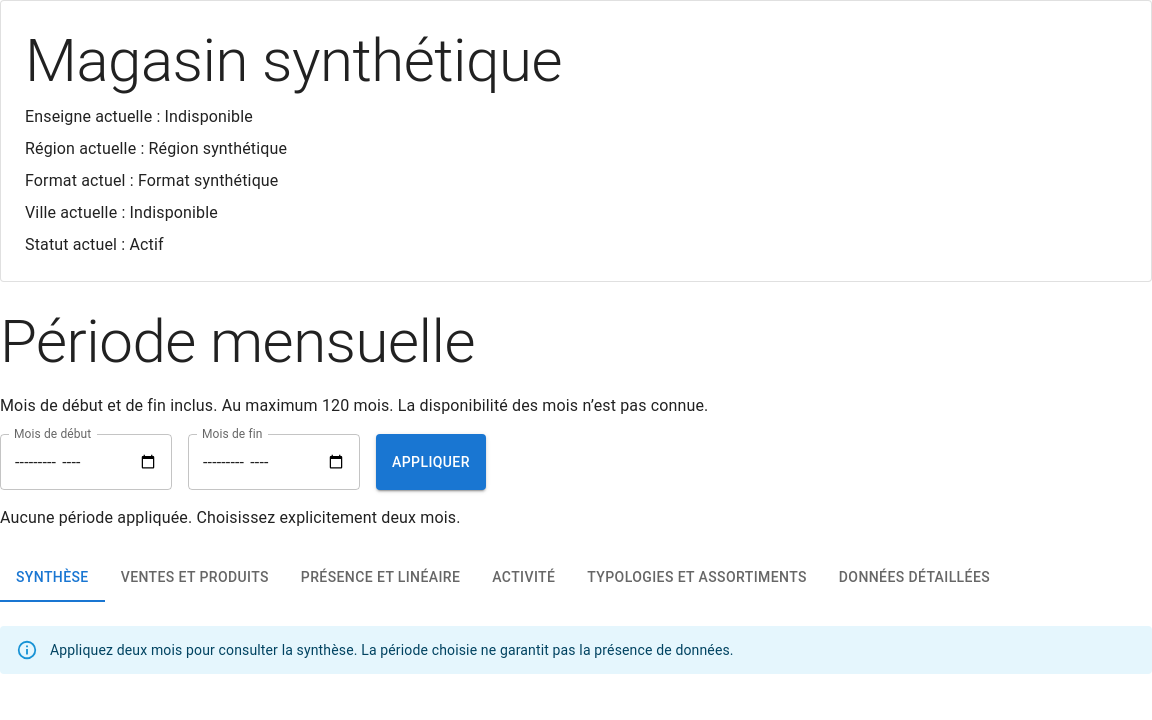
fails closed on forbidden reference responses and permits an explicit retry
The width and height of the screenshot is (1152, 720).
Click the tab "Données détaillées" at [914, 578], box [823,554,1006,602]
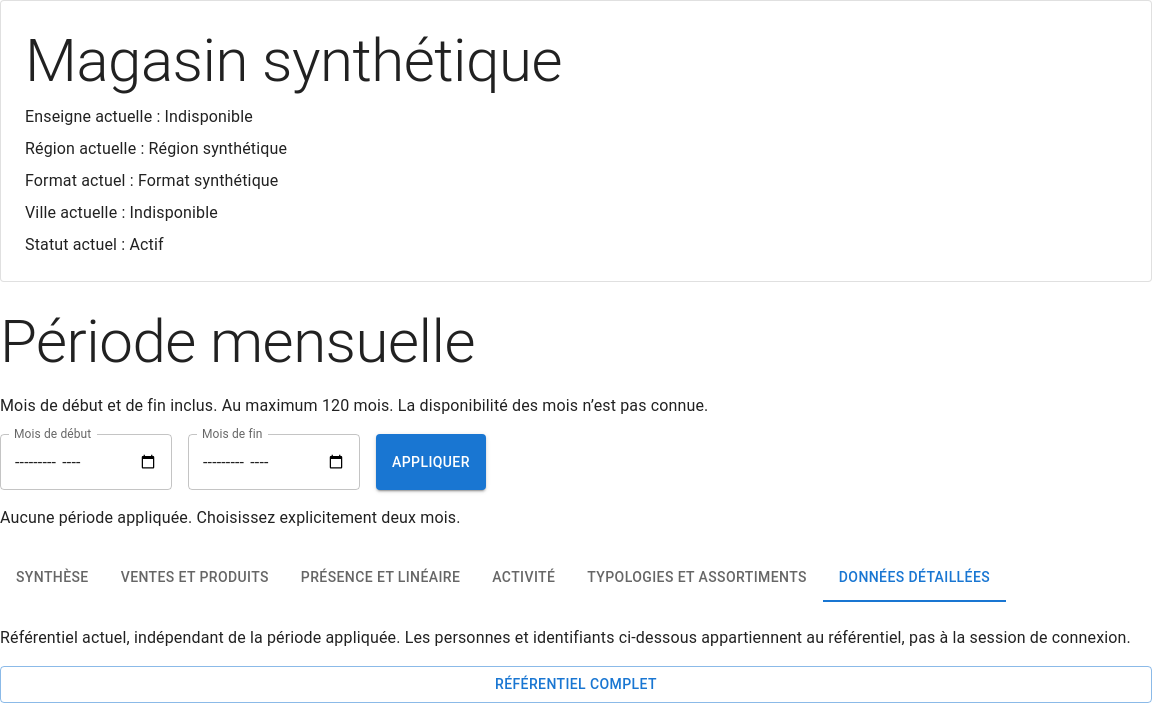
Click the button "Référentiel complet" at [576, 684], box [0,666,1151,702]
(page scrolled)
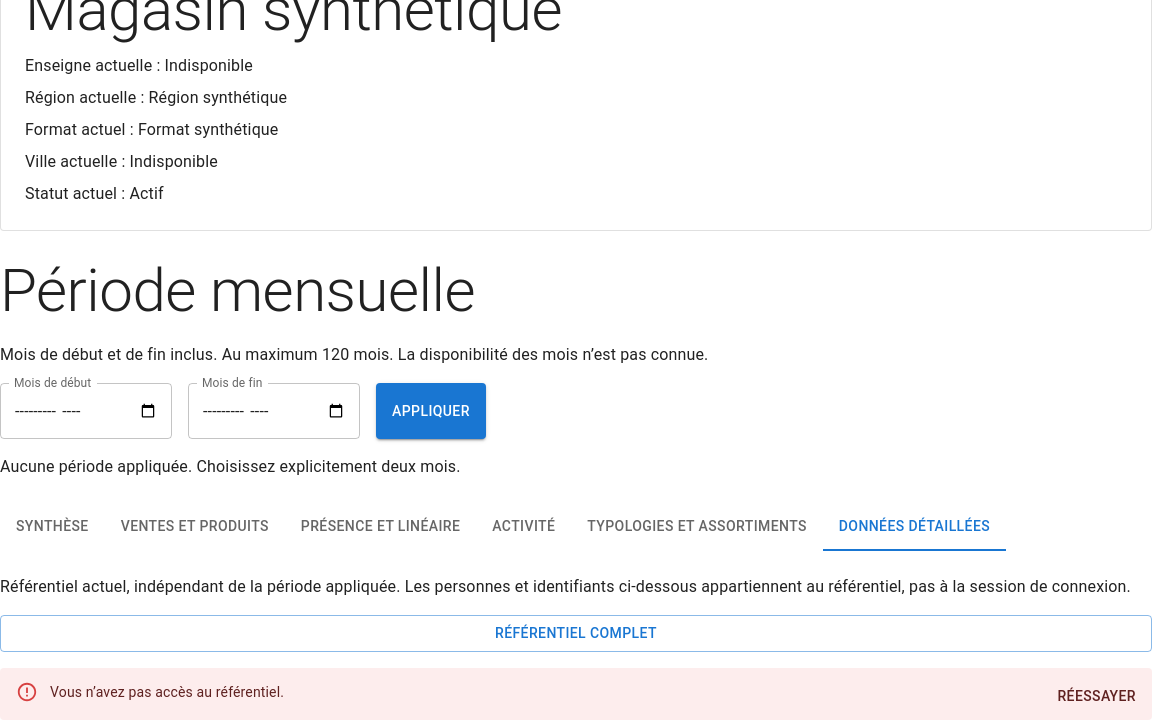
Expected: the text "00123" is not shown
Expected: the message "Vous n’avez pas accès au référentiel. Réessayer" is shown, [0,668,1151,719]
Click the button "Réessayer" at [1097, 696], box [1049,678,1144,714]
(page scrolled)
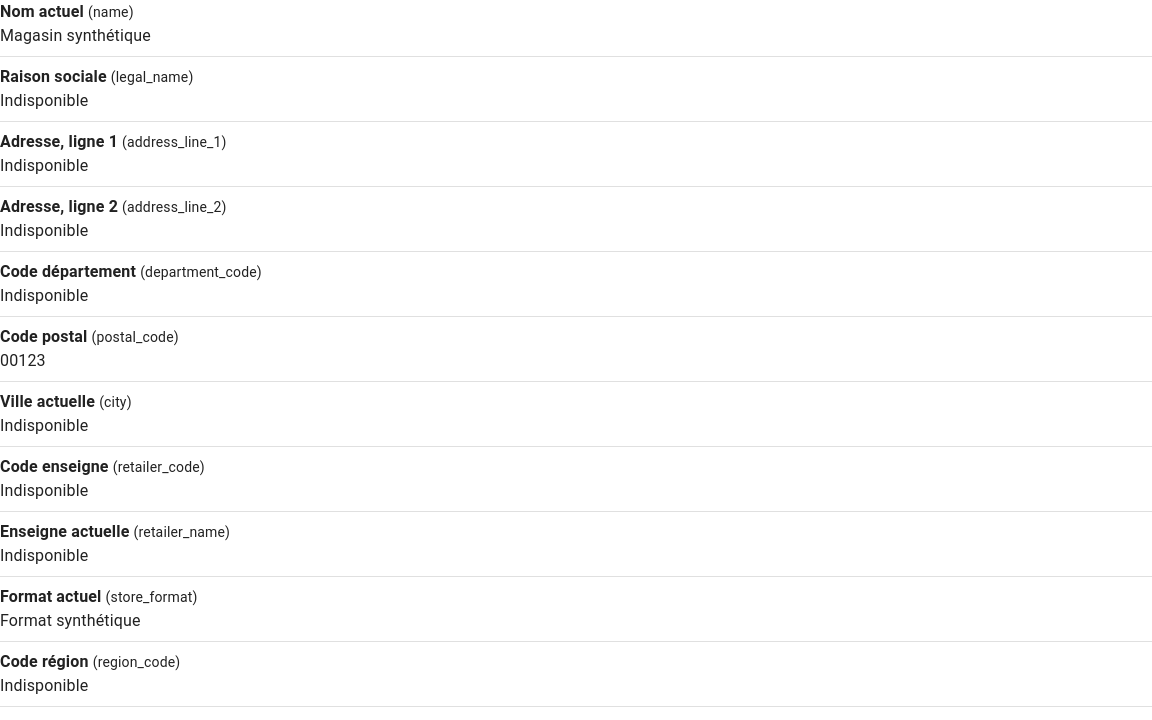
Expected: the text "00123" is shown, [0,350,46,370]
